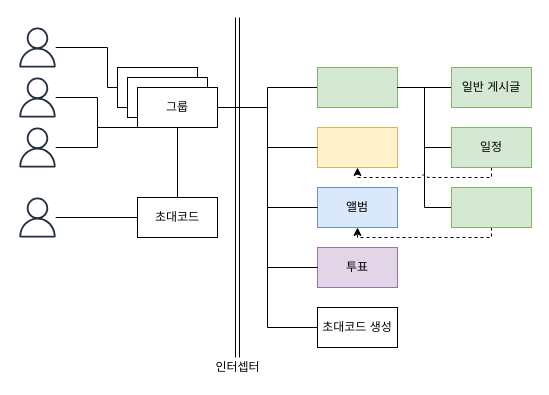
Some shapes in this 549 by 395 pixel diagram are drawn without their labels. Each missing label, with the centre of its shape:
"게시글" belongs at point (357, 87).
"달력" belongs at point (357, 147).
"사진" belongs at point (491, 207).
